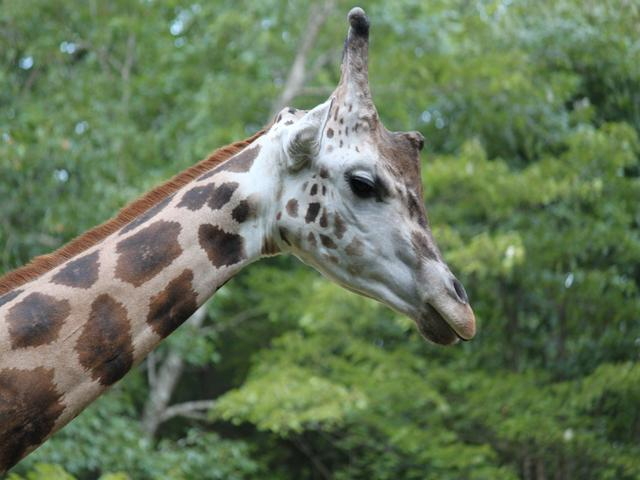giraffe: (276, 18, 494, 376)
